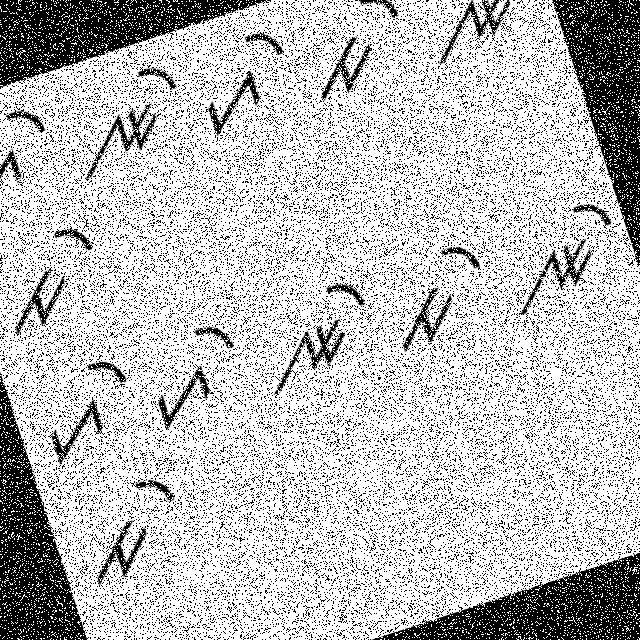hay: (22, 342, 152, 472), (183, 20, 309, 143), (133, 313, 255, 431), (0, 91, 67, 223)
mbay: (64, 467, 200, 598), (372, 226, 505, 358), (0, 208, 118, 344), (288, 0, 422, 109)
nday: (53, 55, 199, 181), (494, 190, 636, 316), (248, 271, 387, 397), (407, 0, 558, 75)
